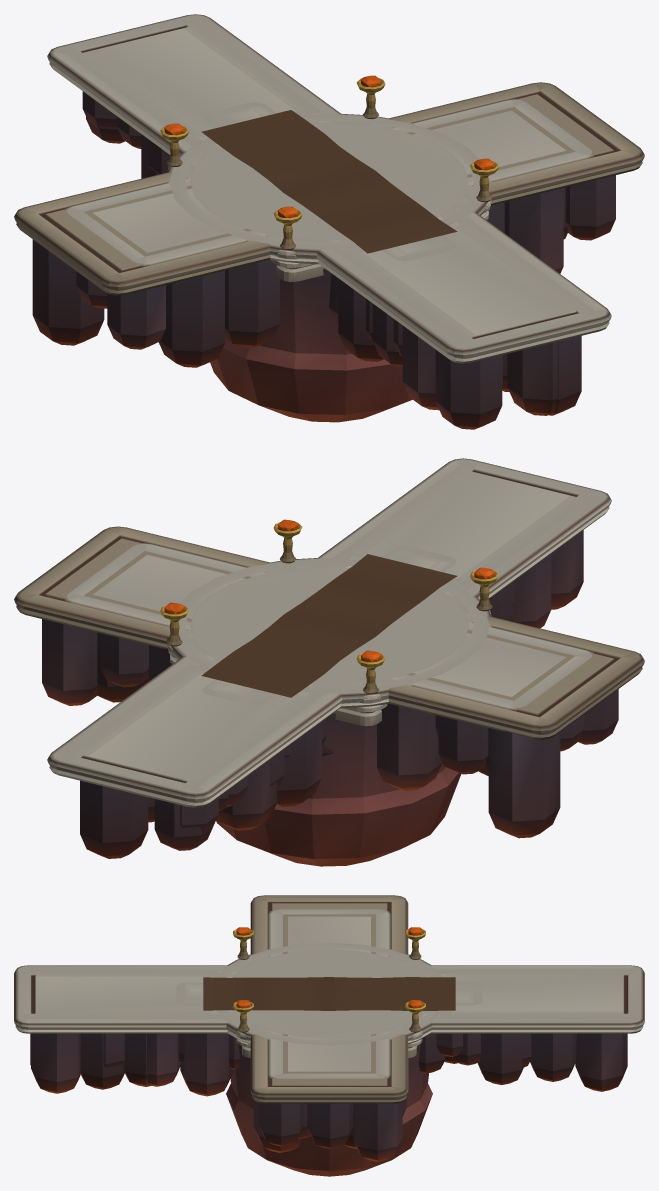
File: volcano-1-D89imolq.glb
3 renders of one model, top to bottom at view 1: azimuth 30°, elevation 25°; view 2: azimuth 150°, elevation 25°; view 3: azimuth 270°, elevation 25°, orthographic. The views are drawn at different scales.
Visible parts, largest first — view 1: block_30x2x10_column#0, block_8x2x40#1, disc_16x1.5#0, block_9x2x40_grate#1, block_26x2x8_grate#1, beam_5x1.5x16_plank#0, pad_12x2x12#0, block_4x18x20_ruin#0, block_8x2x16#0, disc_14x1.5#0; view 2: block_30x2x10_column#0, disc_16x1.5#0, block_8x2x40#1, block_9x2x40_grate#1, block_26x2x8_grate#1, beam_5x1.5x16_plank#0, pad_12x2x12#0, block_4x18x20_ruin#0, block_8x2x16#0, disc_14x1.5#0; view 3: block_9x2x40_grate#1, block_8x2x40#1, disc_16x1.5#0, block_30x2x10_column#0, block_26x2x8_grate#1, beam_5x1.5x16_plank#0, pad_12x2x12#0, block_8x2x16#0, block_4x18x20_ruin#0, disc_14x1.5#0.
Boxes of the visible parts, x1=… form: block_30x2x10_column#0: x1=14, y1=82, x2=644, y2=367; block_8x2x40#1: x1=62, y1=17, x2=596, y2=415; disc_16x1.5#0: x1=166, y1=113, x2=492, y2=422; block_9x2x40_grate#1: x1=47, y1=14, x2=611, y2=429; block_26x2x8_grate#1: x1=64, y1=98, x2=595, y2=266; beam_5x1.5x16_plank#0: x1=201, y1=110, x2=457, y2=253; pad_12x2x12#0: x1=160, y1=75, x2=498, y2=281; block_4x18x20_ruin#0: x1=202, y1=102, x2=456, y2=261; block_8x2x16#0: x1=187, y1=108, x2=471, y2=323; disc_14x1.5#0: x1=190, y1=123, x2=468, y2=240; block_30x2x10_column#0: x1=14, y1=526, x2=644, y2=838; disc_16x1.5#0: x1=166, y1=558, x2=493, y2=866; block_8x2x40#1: x1=62, y1=461, x2=596, y2=850; block_9x2x40_grate#1: x1=47, y1=458, x2=611, y2=858; block_26x2x8_grate#1: x1=63, y1=543, x2=594, y2=775; beam_5x1.5x16_plank#0: x1=201, y1=554, x2=457, y2=697; pad_12x2x12#0: x1=160, y1=519, x2=498, y2=726; block_4x18x20_ruin#0: x1=202, y1=546, x2=456, y2=705; block_8x2x16#0: x1=187, y1=553, x2=471, y2=698; disc_14x1.5#0: x1=190, y1=567, x2=468, y2=684; block_9x2x40_grate#1: x1=14, y1=965, x2=644, y2=1096; block_8x2x40#1: x1=14, y1=969, x2=644, y2=1089; disc_16x1.5#0: x1=215, y1=942, x2=442, y2=1176; block_30x2x10_column#0: x1=250, y1=895, x2=408, y2=1161; block_26x2x8_grate#1: x1=268, y1=909, x2=390, y2=1148; beam_5x1.5x16_plank#0: x1=203, y1=977, x2=455, y2=1010; pad_12x2x12#0: x1=233, y1=927, x2=425, y2=1057; block_8x2x16#0: x1=208, y1=969, x2=450, y2=1073; block_4x18x20_ruin#0: x1=176, y1=982, x2=482, y2=1005; disc_14x1.5#0: x1=232, y1=949, x2=425, y2=1038.
Bounding box in the file's own units: 30 × 13.81 × 40.
